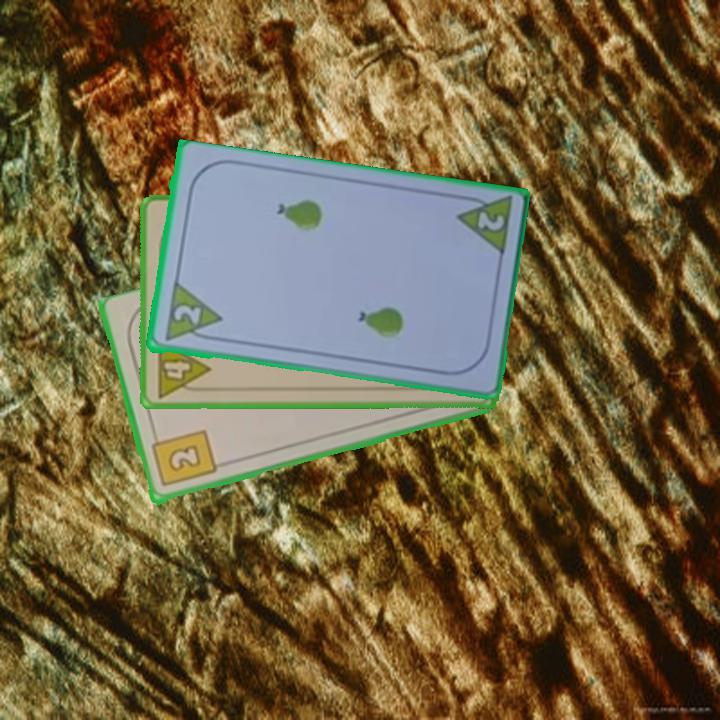2b: (148, 426, 219, 490)
2p: (161, 281, 224, 345), (473, 208, 507, 234)
4p: (153, 335, 213, 400)
